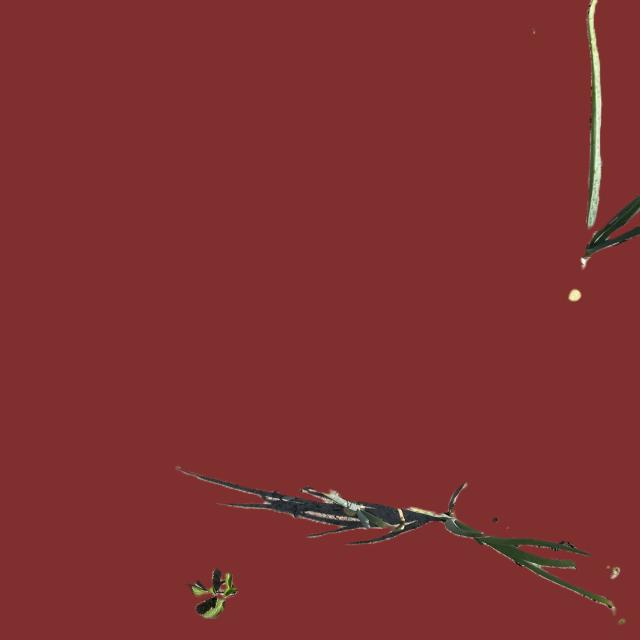Onion: (433, 511, 640, 618), (582, 0, 640, 267)
